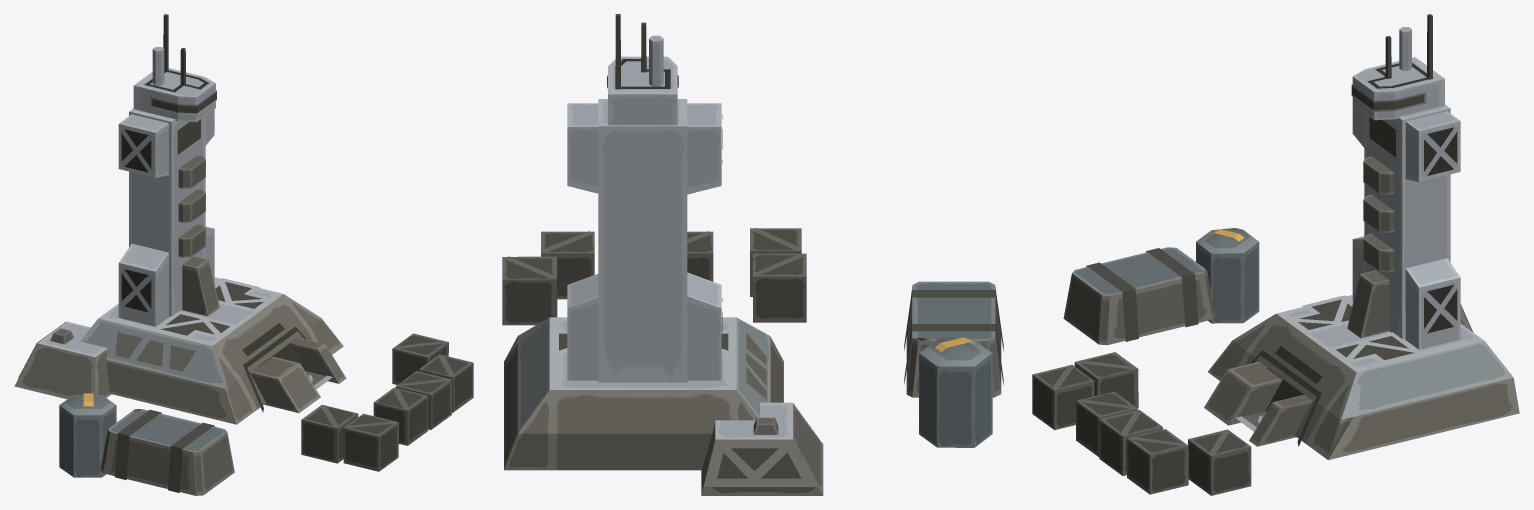
File: watchtower1.FBX
3 views of the same model, side by side, from view 1: azimuth 30°, elevation 25°; view 2: azimuth 150°, elevation 25°; view 3: azimuth 270°, elevation 25° (orthographic). The views are drawn at different scales.
Visible parts, largest first — view 1: watchtower1, d, a, b, c; view 2: watchtower1, d, e; view 3: watchtower1, e, a, c, b.
Boxes of the visible parts, x1,y1,x2,y2 form: watchtower1: (14, 14, 473, 495); d: (118, 114, 168, 177); a: (178, 223, 205, 257); b: (178, 188, 205, 222); c: (178, 154, 205, 188); watchtower1: (502, 14, 1003, 495); d: (687, 103, 722, 194); e: (567, 103, 598, 193); watchtower1: (1032, 14, 1519, 495); e: (1405, 111, 1460, 181); a: (1363, 233, 1394, 272); c: (1363, 156, 1394, 194); b: (1363, 194, 1394, 232).
Bounding box in the file's own units: 119 × 119 × 104.
